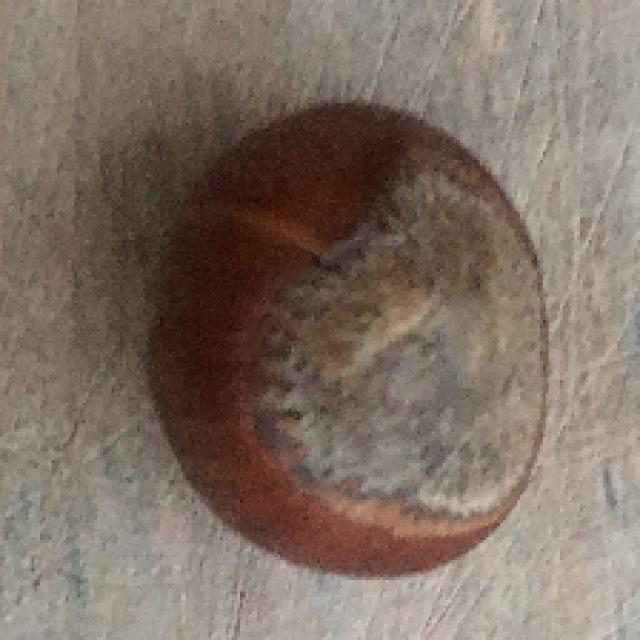damagedHazelnut: (149, 97, 555, 583)
